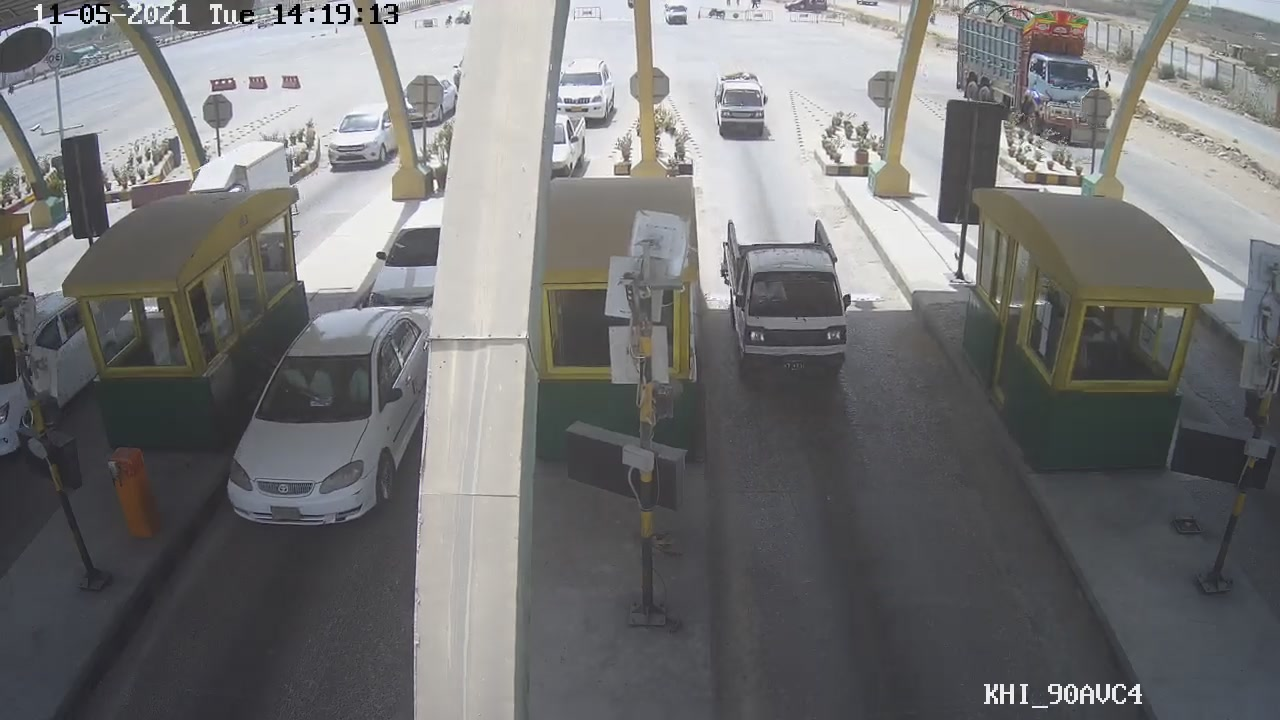F1: (714, 215, 864, 383)
